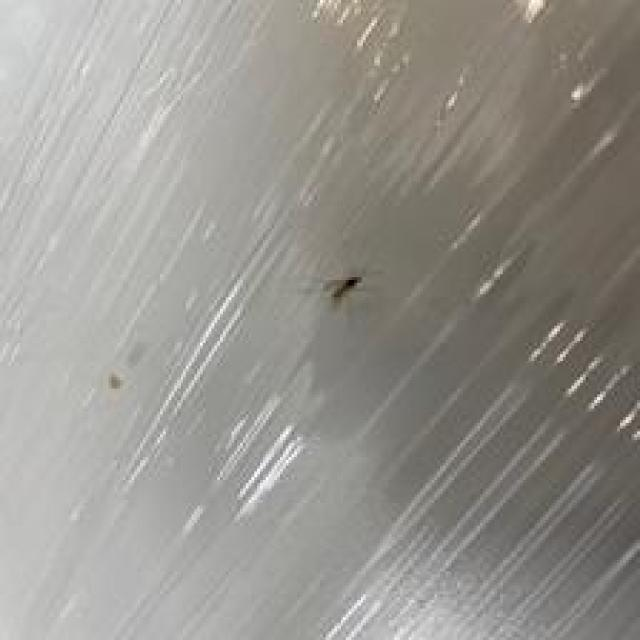Culex: (323, 273, 363, 301)
